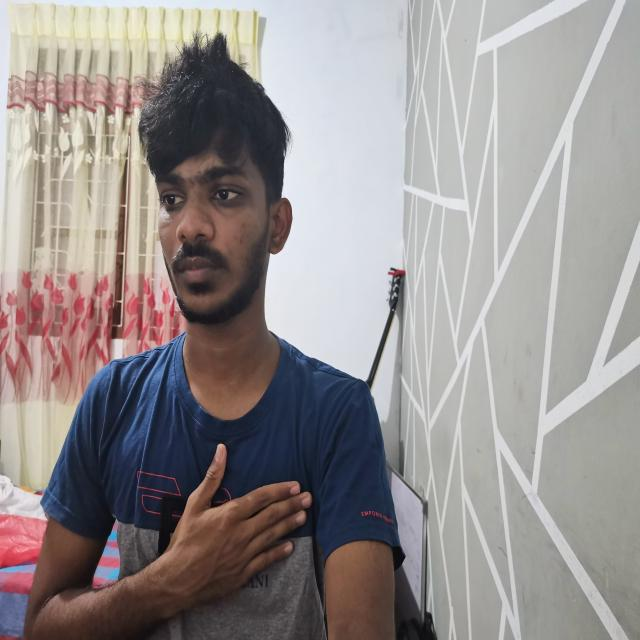Please: (27, 432, 325, 637)
